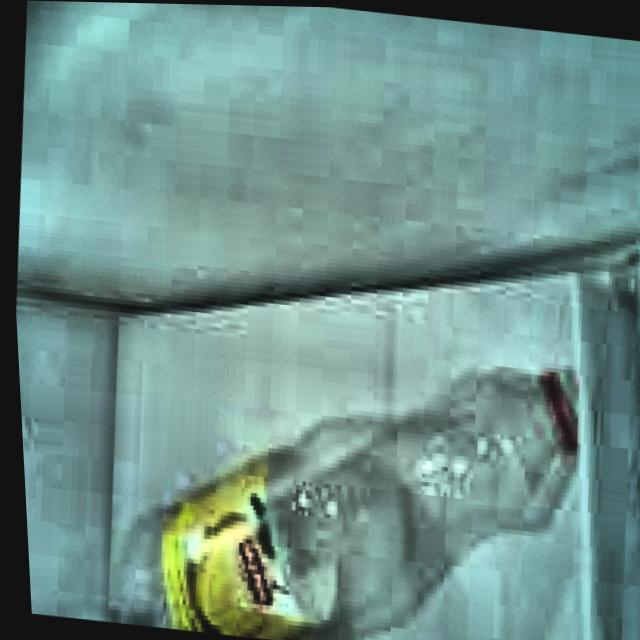Bottles: (84, 306, 610, 640)
